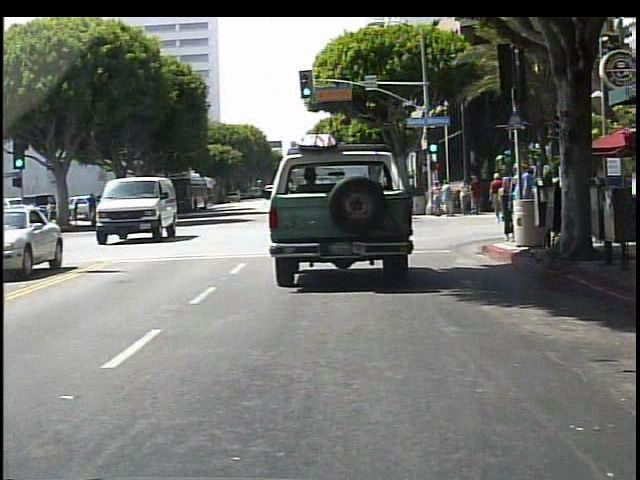person: (516, 162, 536, 244), (489, 171, 511, 223), (502, 171, 516, 242), (521, 175, 539, 227), (538, 173, 552, 219), (470, 172, 483, 213), (440, 180, 454, 217), (458, 178, 469, 215), (433, 184, 444, 216)
